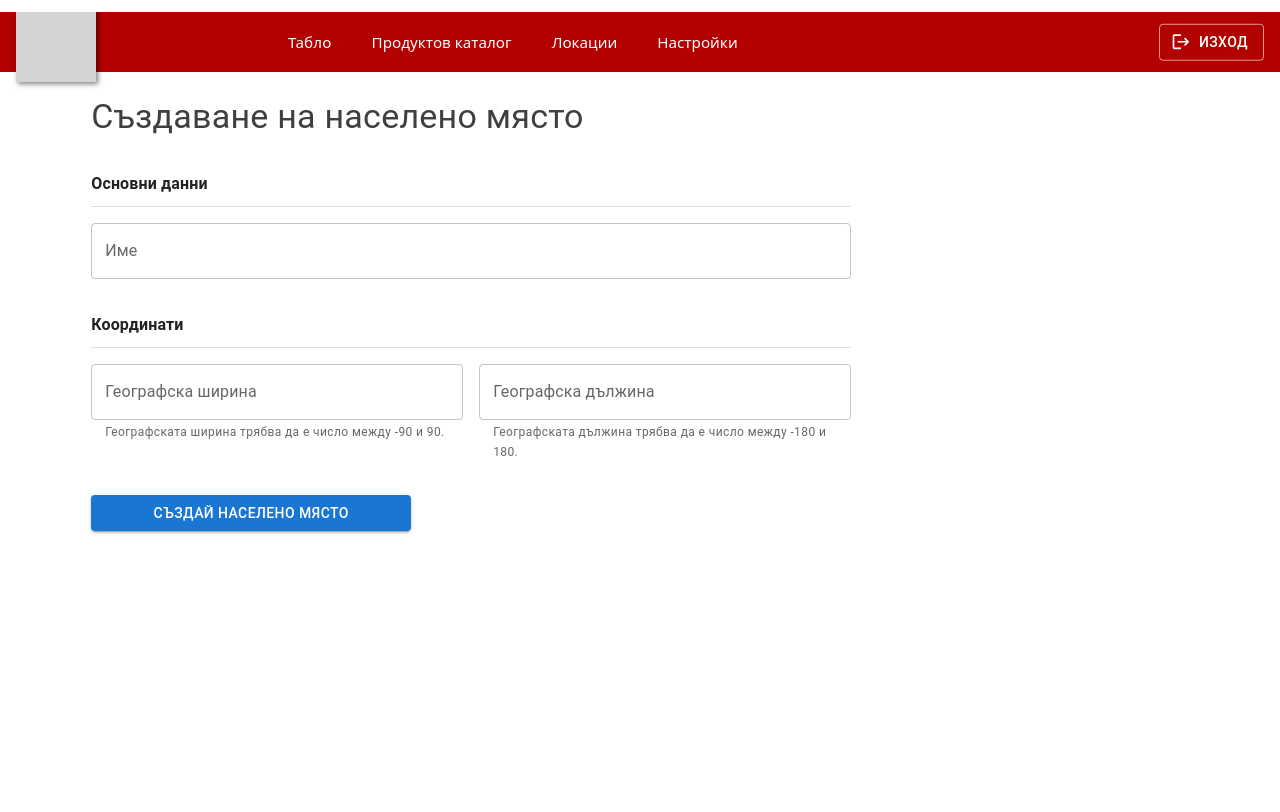
Test: Create settlement page › blocks submission and reports a validation error when the fields are empty
Click the button "Създай населено място": coordinates (251, 513) [91, 495, 411, 531]
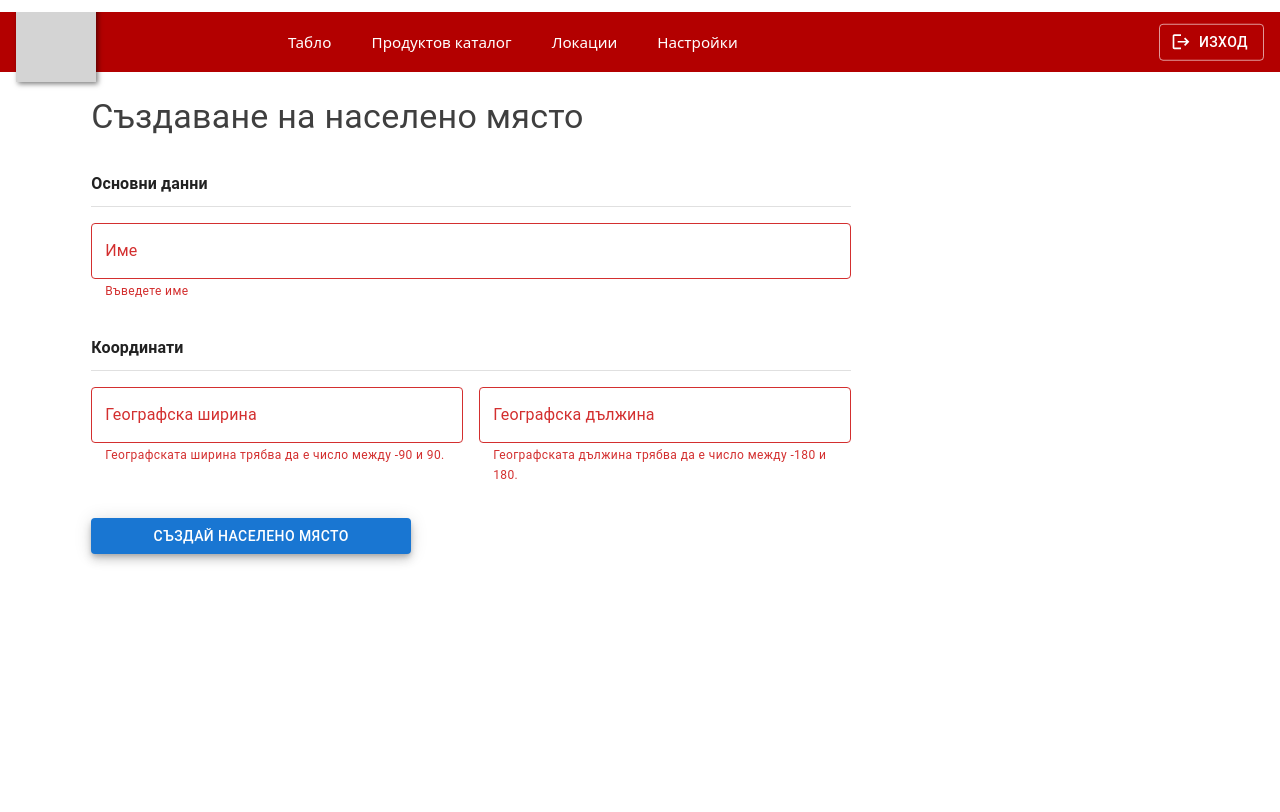
Now the text "Въведете име" is shown, box [105, 284, 188, 298]
